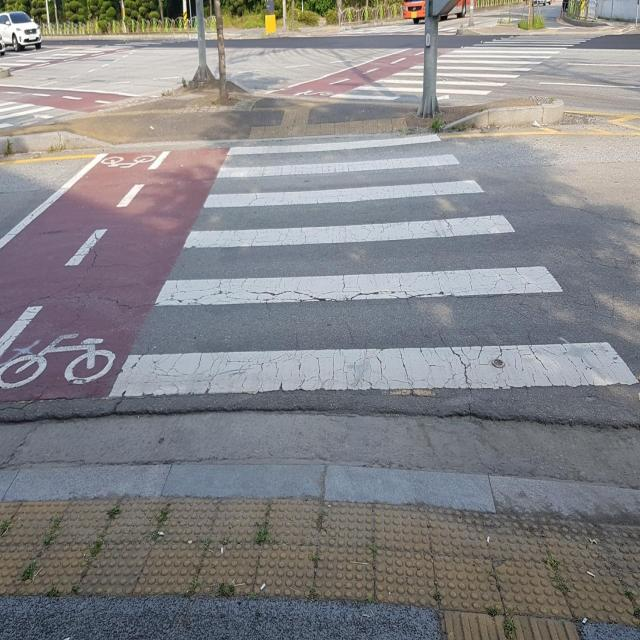횡단보도: (103, 126, 640, 402), (333, 31, 607, 100)
